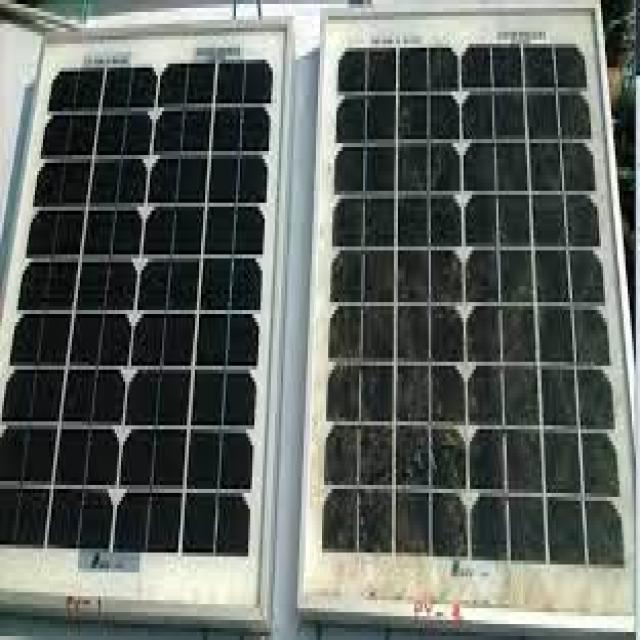faulty: (320, 43, 629, 561)
no faulty: (0, 40, 272, 553)
